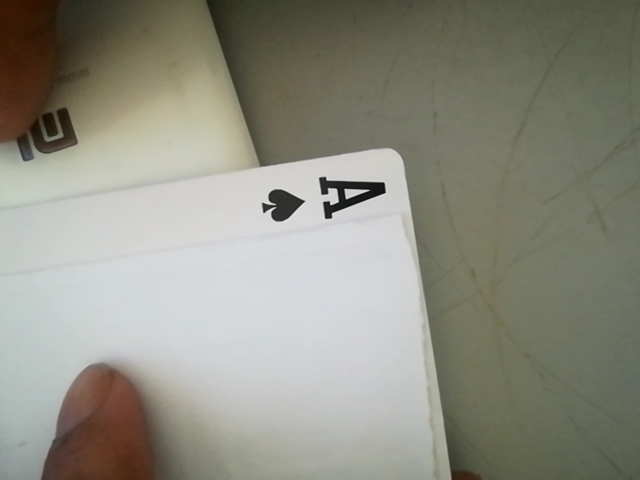ht a: (246, 165, 397, 227)
